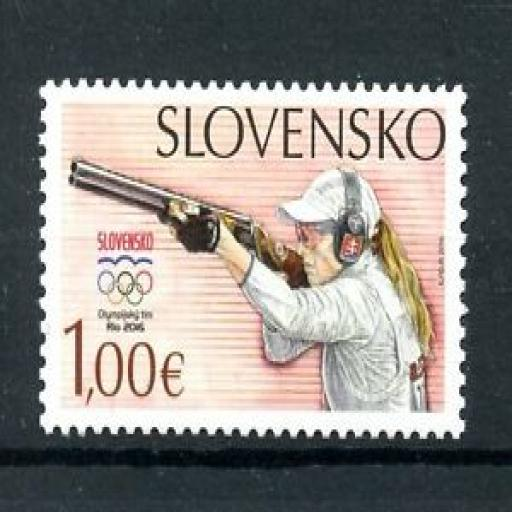shooting: (165, 163, 437, 415)
